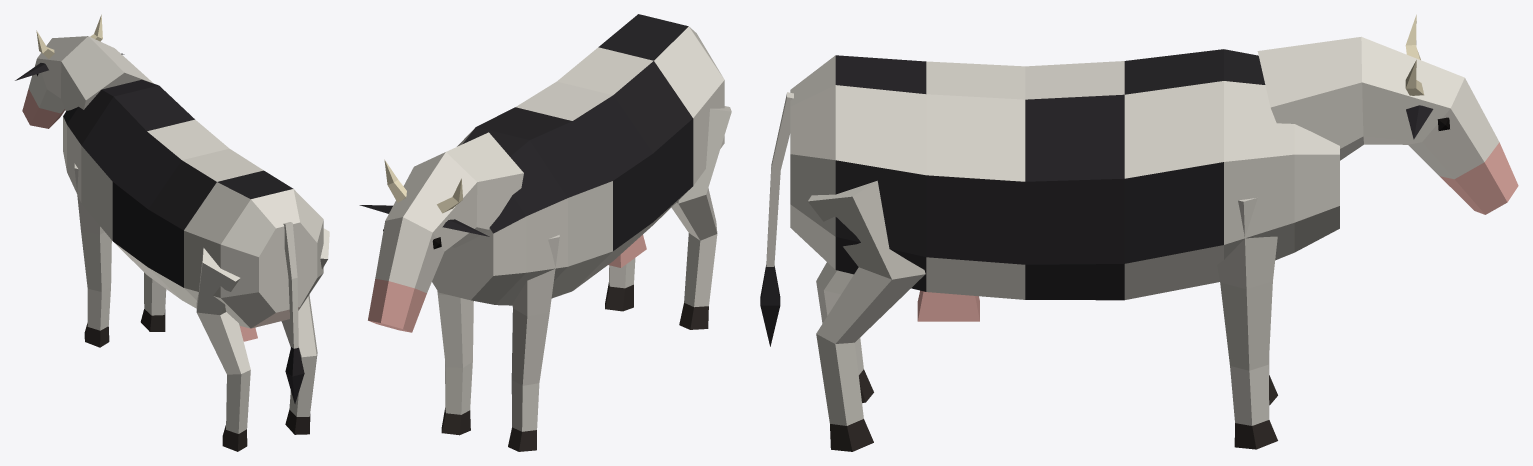
The model's file is cow.glb.
The picture shows the model from 3 angles, left to right: view 1: azimuth 30°, elevation 25°; view 2: azimuth 150°, elevation 25°; view 3: azimuth 270°, elevation 25°; orthographic projection. The views are drawn at different scales.
Parts seen in each view (by area): view 1: Body, Head, Leg_BL, Leg_FL, Leg_BR, Tail, Leg_FR; view 2: Body, Head, Leg_FL, Leg_BL, Leg_FR, Leg_BR; view 3: Body, Head, Leg_BR, Leg_FR, Tail, Leg_BL.
Boxes of the visible parts, left/top/right/bottom form: Body: left=63, top=79, right=323, bottom=341; Head: left=22, top=14, right=153, bottom=128; Leg_BL: left=196, top=248, right=250, bottom=451; Leg_FL: left=74, top=163, right=111, bottom=347; Leg_BR: left=281, top=228, right=329, bottom=434; Tail: left=283, top=222, right=304, bottom=403; Leg_FR: left=140, top=272, right=166, bottom=331; Body: left=432, top=14, right=724, bottom=305; Head: left=368, top=132, right=523, bottom=332; Leg_FL: left=508, top=235, right=559, bottom=451; Leg_BL: left=671, top=106, right=731, bottom=329; Leg_FR: left=437, top=291, right=473, bottom=435; Leg_BR: left=605, top=258, right=635, bottom=311; Body: left=790, top=49, right=1339, bottom=321; Head: left=1257, top=14, right=1518, bottom=214; Leg_BR: left=808, top=180, right=925, bottom=451; Leg_FR: left=1217, top=197, right=1277, bottom=449; Tail: left=760, top=92, right=793, bottom=346; Leg_BL: left=816, top=262, right=873, bottom=403.
Size of the model in its own units: 0.74 by 1.51 by 2.68.
